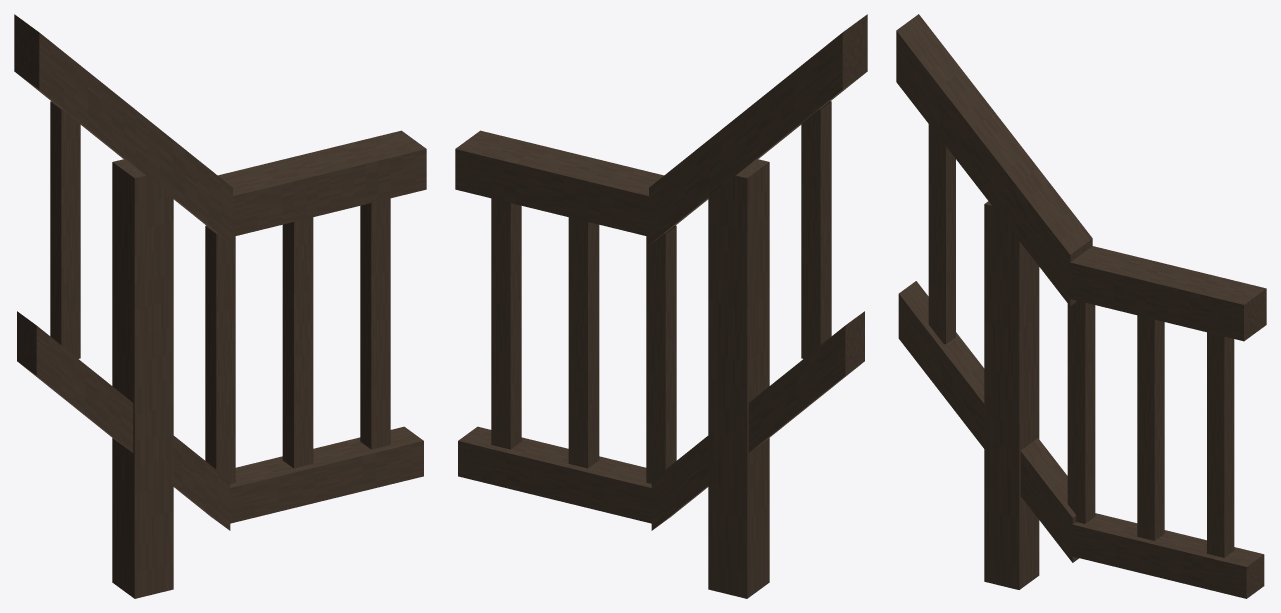
Rendered from foot_neg.obj.
The picture shows the model from 3 angles, left to right: view 1: azimuth 30°, elevation 25°; view 2: azimuth 150°, elevation 25°; view 3: azimuth 330°, elevation 25°; orthographic projection. The views are drawn at different scales.
Visible parts, largest first — view 1: railing_picket_bronze_foot_neg; view 2: railing_picket_bronze_foot_neg; view 3: railing_picket_bronze_foot_neg.
Boxes of the visible parts, <box> form: railing_picket_bronze_foot_neg: <box>14,14,426,598</box>; railing_picket_bronze_foot_neg: <box>455,14,867,598</box>; railing_picket_bronze_foot_neg: <box>896,14,1266,598</box>.
Bounding box in the file's own units: 1 × 1.46 × 0.1125.
